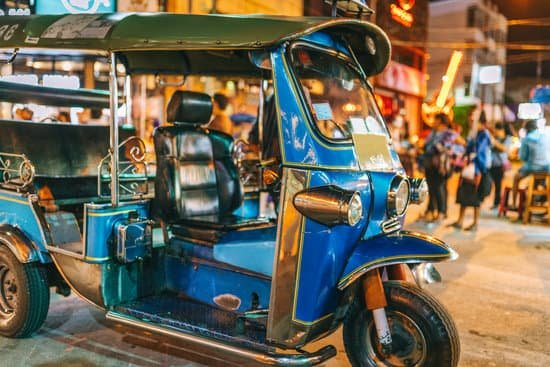threewheel: (1, 14, 460, 367)
